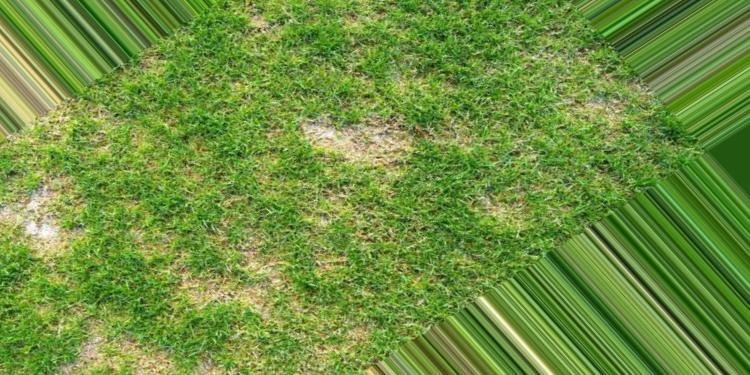patch: (176, 261, 289, 313), (301, 122, 407, 158), (71, 324, 139, 370), (20, 202, 86, 245)
